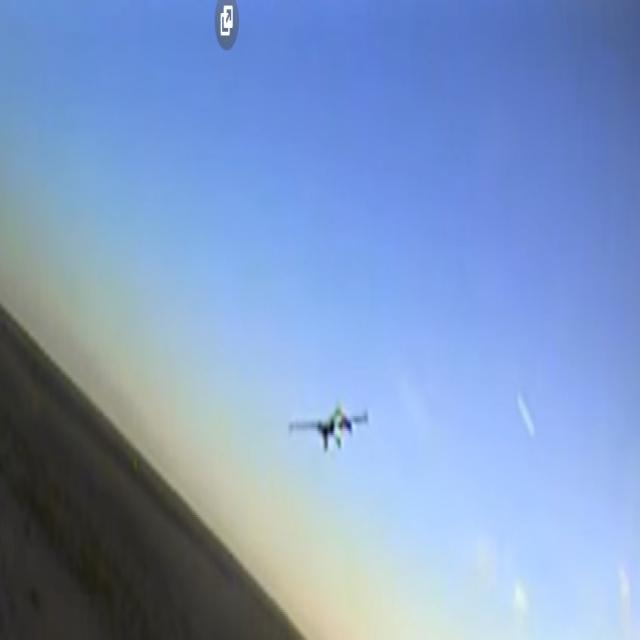iha: (313, 398, 332, 456)
